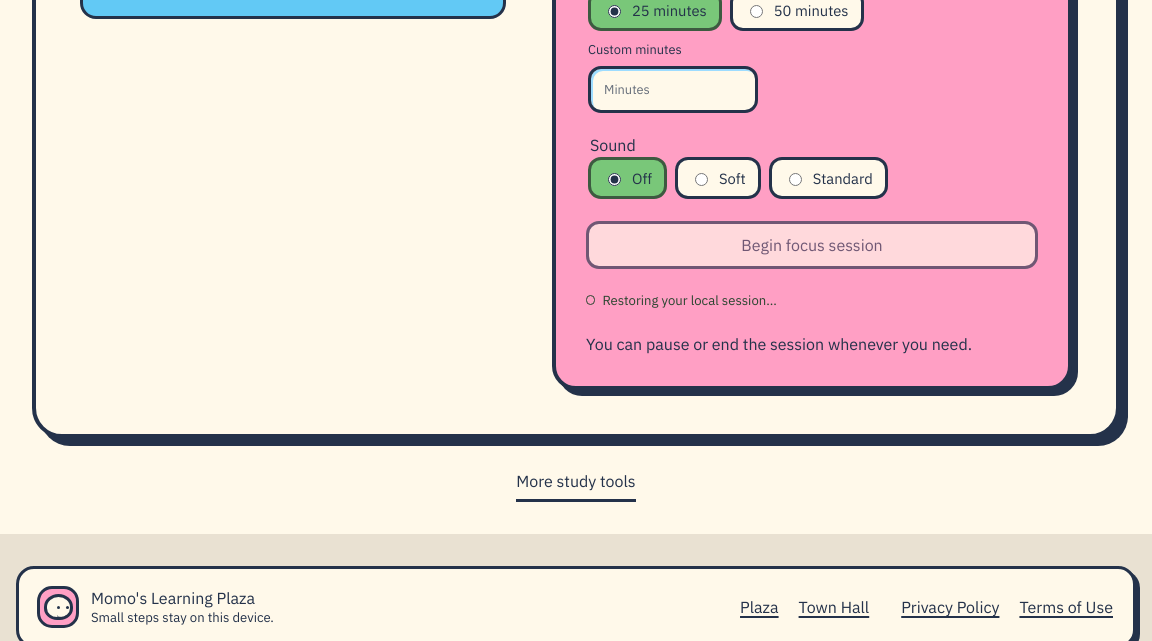
Test: Timer-Only Focus Session › keeps advanced study tools out of the first setup view
(page scrolled)
Expected: the heading "Deck Library" is not shown
Click the button "More study tools": coordinates (576, 482) [516, 462, 636, 502]
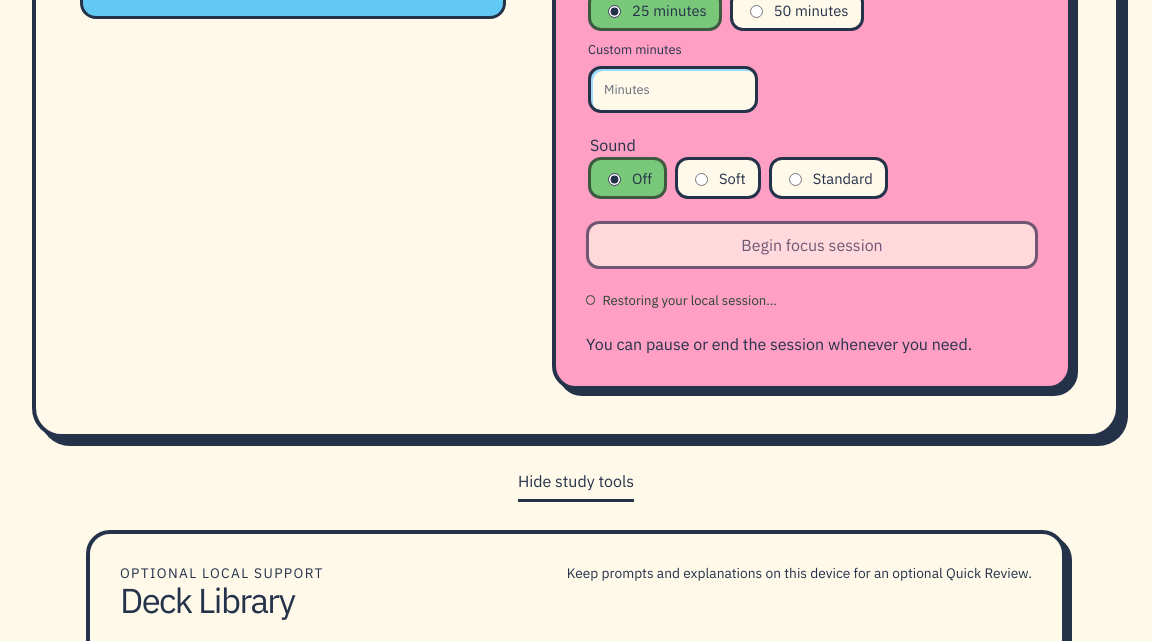
Expected: the heading "Deck Library" is shown, [120, 584, 324, 619]
Expected: the button "Hide study tools" is expanded
Click the button "Hide study tools": coordinates (576, 482) [518, 462, 634, 502]
(page scrolled)
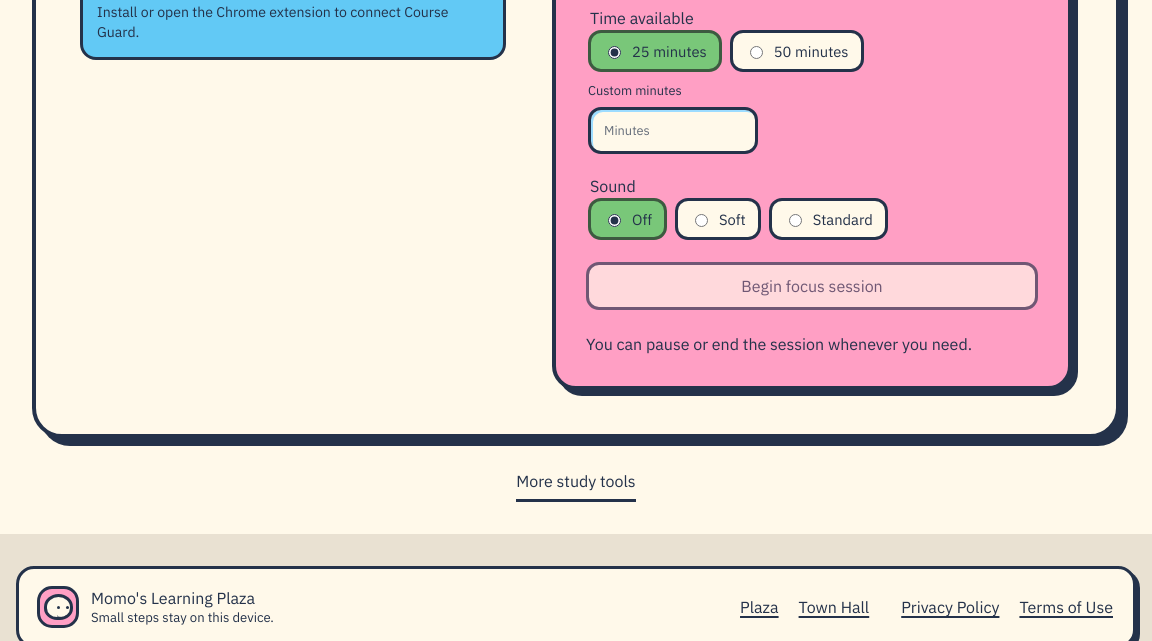
Expected: the heading "Deck Library" is gone
